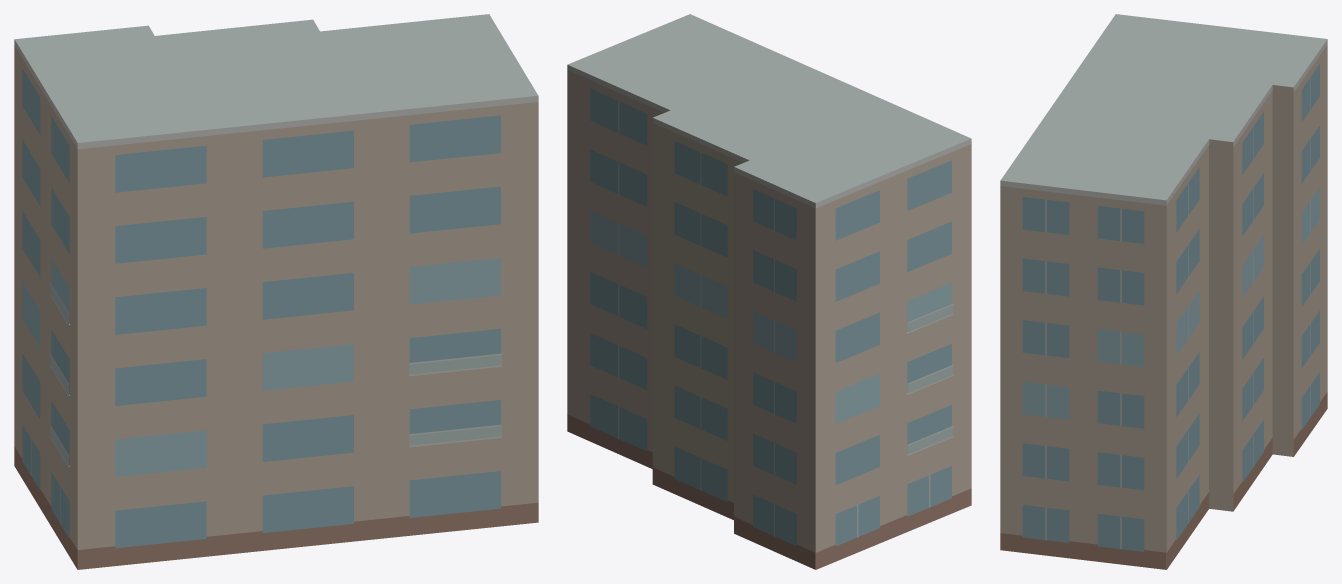
The model's file is survey-upis-32669275.glb.
The picture shows the model from 3 angles, left to right: view 1: azimuth 30°, elevation 25°; view 2: azimuth 150°, elevation 25°; view 3: azimuth 270°, elevation 25°; orthographic projection. The views are drawn at different scales.
Visible parts, largest first — view 1: survey-upis-32669275.tmp; view 2: survey-upis-32669275.tmp; view 3: survey-upis-32669275.tmp.
Boxes of the visible parts, box(x1,y1,x2,y2) form: survey-upis-32669275.tmp: box(14, 14, 538, 569); survey-upis-32669275.tmp: box(567, 14, 971, 569); survey-upis-32669275.tmp: box(1000, 14, 1327, 569).
Bounding box in the file's own units: 18.37 × 16.98 × 13.64.
